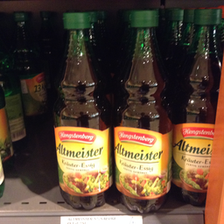vinegar: (46, 11, 113, 211), (117, 10, 175, 215), (172, 9, 223, 204)
